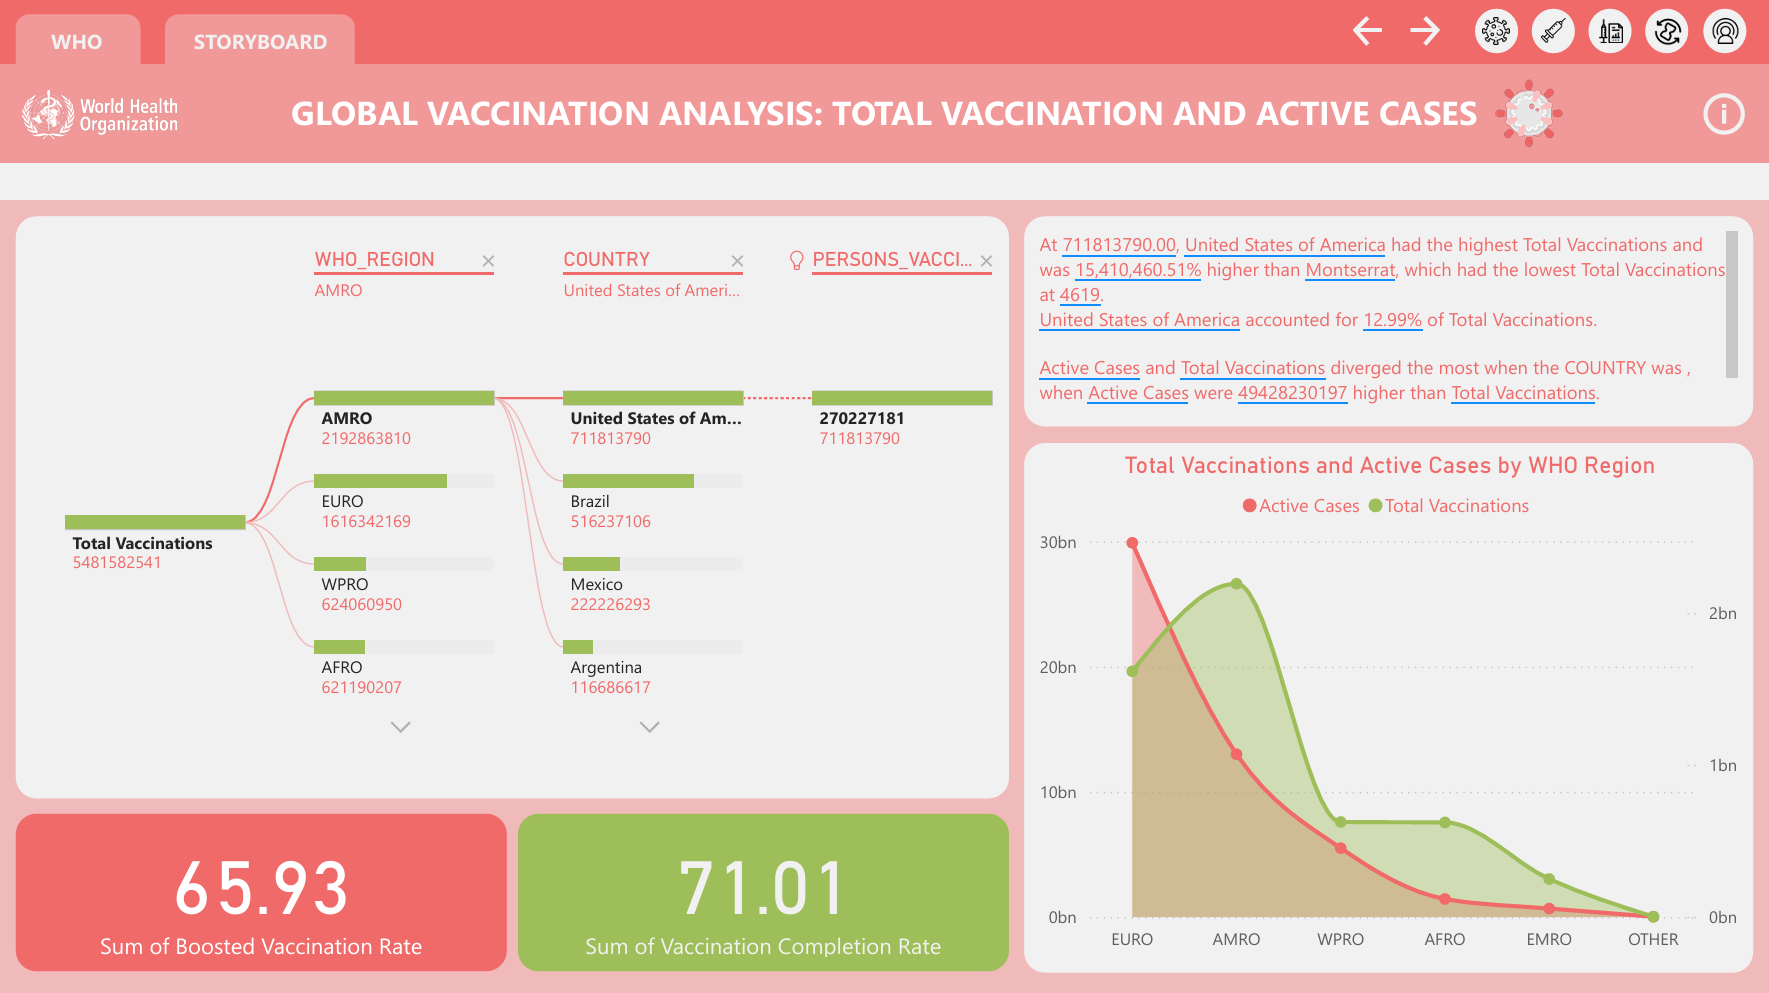

Layout of this report page (visuals, bound fields, positions):
{"tool":"powerbi","page":{"name":"GLOBAL VACCINATION ANALYSIS","canvas":[1280,720],"ordinal":2},"visuals":[{"type":"shape","box":[0,0,1280,47],"z":0},{"type":"shape","box":[0,47,1280,72.1],"z":1000},{"type":"textbox","box":[154.9,59.8,970.3,46.1],"z":2000},{"type":"shape","box":[0,119.1,1280,26],"z":3000},{"type":"image","box":[1064.3,46.6,82.5,72.6],"z":5000},{"type":"actionButton","box":[1227,63,42,40],"z":6000},{"type":"decompositionTreeVisual","fields":{"Analyze":["Sum(vaccination-data-grouping.Sum of Total Vaccinations by Country)"],"ExplainBy":["vaccination-data.WHO_REGION","vaccination-data-grouping.COUNTRY","vaccination-data.PERSONS_VACCINATED_1PLUS_DOSE"]},"box":[11.8,156.8,718.4,421.4],"z":7000},{"type":"lineChart","title":"Total Vaccinations and Active Cases by WHO Region","fields":{"Y":["Sum(WHO-COVID-19-global-data.Active Cases)"],"Category":["vaccination-data.WHO_REGION"],"Y2":["Sum(vaccination-data-grouping.Sum of Total Vaccinations by Country)"]},"box":[740.9,321.5,527.3,382.2],"z":8000},{"type":"card","fields":{"Values":["Sum(vaccination-data.Boosted Vaccination Rate)"]},"box":[11.8,589,354.8,113.7],"z":9000},{"type":"card","fields":{"Values":["Sum(vaccination-data.Vaccination Completion Rate)"]},"box":[375.4,589,354.8,113.7],"z":10000},{"type":"textbox","box":[740.9,156.8,527.3,151.9],"z":11000},{"type":"image","box":[12,57,122.1,52],"z":12000},{"type":"shape","box":[1066.7,7.1,31,31.9],"z":13000},{"type":"shape","box":[1107.9,7.1,31,31.9],"z":14000},{"type":"shape","box":[1149.2,7.1,31,31.9],"z":15000},{"type":"shape","box":[1190.4,7.1,31,31.9],"z":16000},{"type":"shape","box":[1231.6,7.1,31,31.9],"z":17000},{"type":"image","box":[1066.1,7.8,31.7,30],"z":18000},{"type":"image","box":[1107.8,8.3,30,29.1],"z":19000},{"type":"image","box":[1150.9,9.6,27.8,27],"z":20000},{"type":"image","box":[1190.7,7.4,31.5,31.9],"z":21000},{"type":"image","box":[1231.7,7.8,31.7,30.4],"z":22000},{"type":"shape","box":[11.8,10.9,90,39.1],"z":23000},{"type":"textbox","box":[27.3,15.5,58.2,31.8],"z":24000},{"type":"actionButton","box":[1015.5,8.4,40.9,30],"z":25000,"group":"g1"},{"type":"group","id":"g1","title":"Group 1","box":[975.5,8.4,80.9,30],"z":25000},{"type":"actionButton","box":[975.5,8.4,40,30],"z":26000,"group":"g1"},{"type":"shape","box":[120,10.9,137.3,39.1],"z":26000},{"type":"textbox","box":[130,14.5,118.2,31.8],"z":27000}]}

Visuals, with their boxes on the page's 1280x720 design canvas (x1, y1, x2, y2). These are canvas units, not pixel positions in the 1769x993 screenshot, which may show the page scaled, cropped or inside an application window:
shape: {"x1": 0, "y1": 0, "x2": 1280, "y2": 47}
shape: {"x1": 0, "y1": 47, "x2": 1280, "y2": 119}
textbox: {"x1": 155, "y1": 60, "x2": 1125, "y2": 106}
shape: {"x1": 0, "y1": 119, "x2": 1280, "y2": 145}
image: {"x1": 1064, "y1": 47, "x2": 1147, "y2": 119}
actionButton: {"x1": 1227, "y1": 63, "x2": 1269, "y2": 103}
decompositionTreeVisual - Sum(vaccination-data-grouping.Sum of Total Vaccinations by Country) x vaccination-data.WHO_REGION: {"x1": 12, "y1": 157, "x2": 730, "y2": 578}
"Total Vaccinations and Active Cases by WHO Region" lineChart: {"x1": 741, "y1": 322, "x2": 1268, "y2": 704}
card - Sum(vaccination-data.Boosted Vaccination Rate): {"x1": 12, "y1": 589, "x2": 367, "y2": 703}
card - Sum(vaccination-data.Vaccination Completion Rate): {"x1": 375, "y1": 589, "x2": 730, "y2": 703}
textbox: {"x1": 741, "y1": 157, "x2": 1268, "y2": 309}
image: {"x1": 12, "y1": 57, "x2": 134, "y2": 109}
shape: {"x1": 1067, "y1": 7, "x2": 1098, "y2": 39}
shape: {"x1": 1108, "y1": 7, "x2": 1139, "y2": 39}
shape: {"x1": 1149, "y1": 7, "x2": 1180, "y2": 39}
shape: {"x1": 1190, "y1": 7, "x2": 1221, "y2": 39}
shape: {"x1": 1232, "y1": 7, "x2": 1263, "y2": 39}
image: {"x1": 1066, "y1": 8, "x2": 1098, "y2": 38}
image: {"x1": 1108, "y1": 8, "x2": 1138, "y2": 37}
image: {"x1": 1151, "y1": 10, "x2": 1179, "y2": 37}
image: {"x1": 1191, "y1": 7, "x2": 1222, "y2": 39}
image: {"x1": 1232, "y1": 8, "x2": 1263, "y2": 38}
shape: {"x1": 12, "y1": 11, "x2": 102, "y2": 50}
textbox: {"x1": 27, "y1": 16, "x2": 86, "y2": 47}
actionButton: {"x1": 1016, "y1": 8, "x2": 1056, "y2": 38}
"Group 1" group: {"x1": 976, "y1": 8, "x2": 1056, "y2": 38}
actionButton: {"x1": 976, "y1": 8, "x2": 1016, "y2": 38}
shape: {"x1": 120, "y1": 11, "x2": 257, "y2": 50}
textbox: {"x1": 130, "y1": 14, "x2": 248, "y2": 46}
